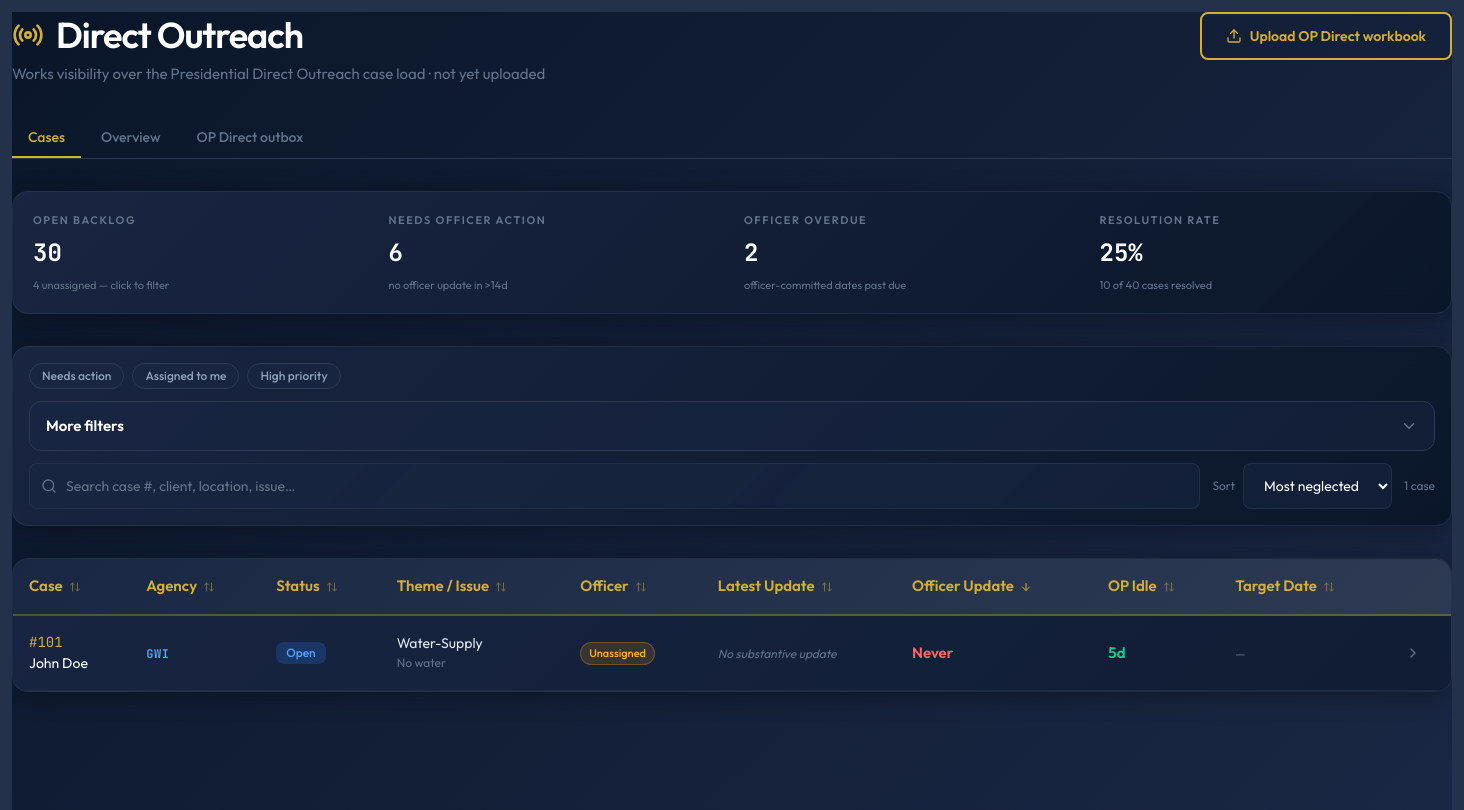
Test: tabs › Overview shows the scorecard table + officer workload and hides the cases table; Cases restores it
Expected: the text "John Doe" is shown, [29, 654, 88, 672]
Click the tab "Overview" at (131, 138), box [85, 117, 176, 158]
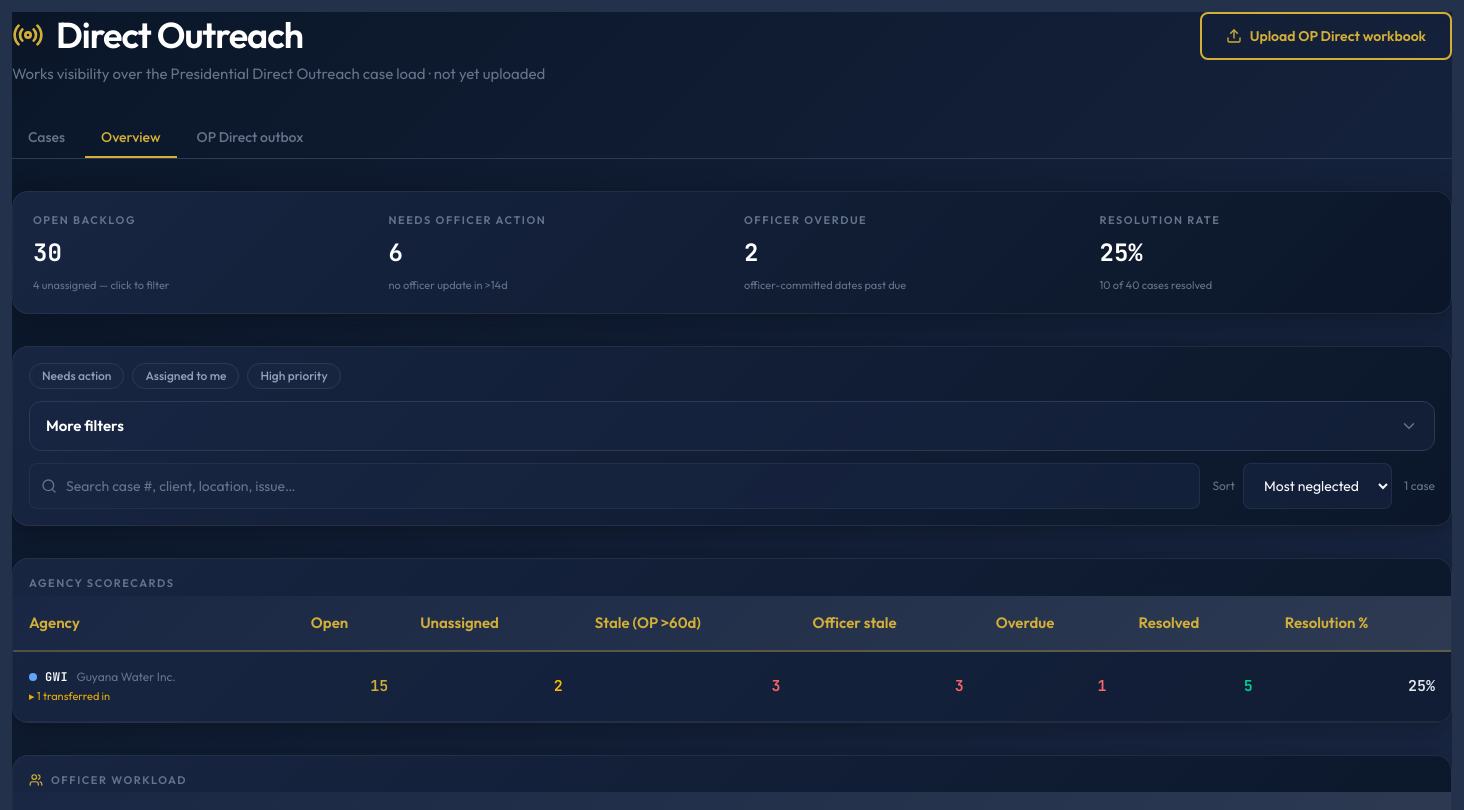
Expected: the text "Agency scorecards" is shown, [29, 576, 174, 590]
Expected: the column heading "Open" in the row of "Stale (OP >60d)" is shown, [295, 596, 404, 652]
Expected: the column heading "Stale (OP >60d)" is shown, [579, 596, 796, 652]
Click the tab "Cases" at (46, 138), box [12, 117, 81, 158]
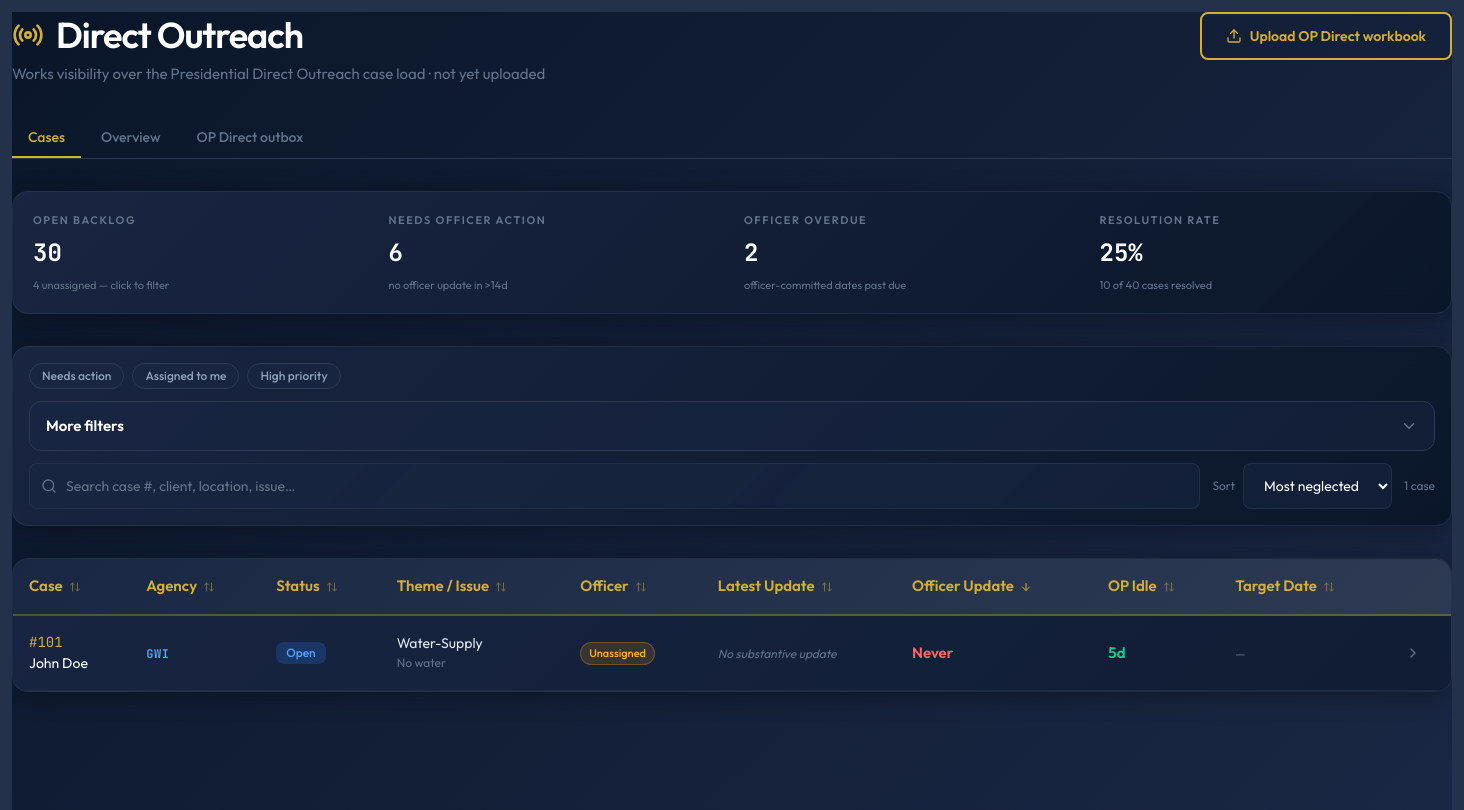
Expected: the text "John Doe" is shown, [29, 654, 88, 672]
Expected: the text "Agency scorecards" is gone
